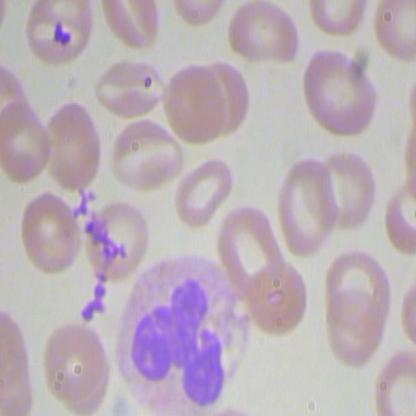RBC: (300, 47, 385, 140), (273, 157, 341, 259), (108, 114, 190, 192), (311, 145, 378, 233), (161, 62, 227, 150), (17, 188, 81, 276), (85, 195, 149, 283), (45, 320, 109, 408), (244, 254, 308, 342), (42, 100, 105, 188), (172, 150, 234, 235), (22, 1, 98, 70), (224, 1, 306, 64), (90, 55, 166, 119), (1, 98, 53, 185)
WBC: (111, 247, 259, 415)
